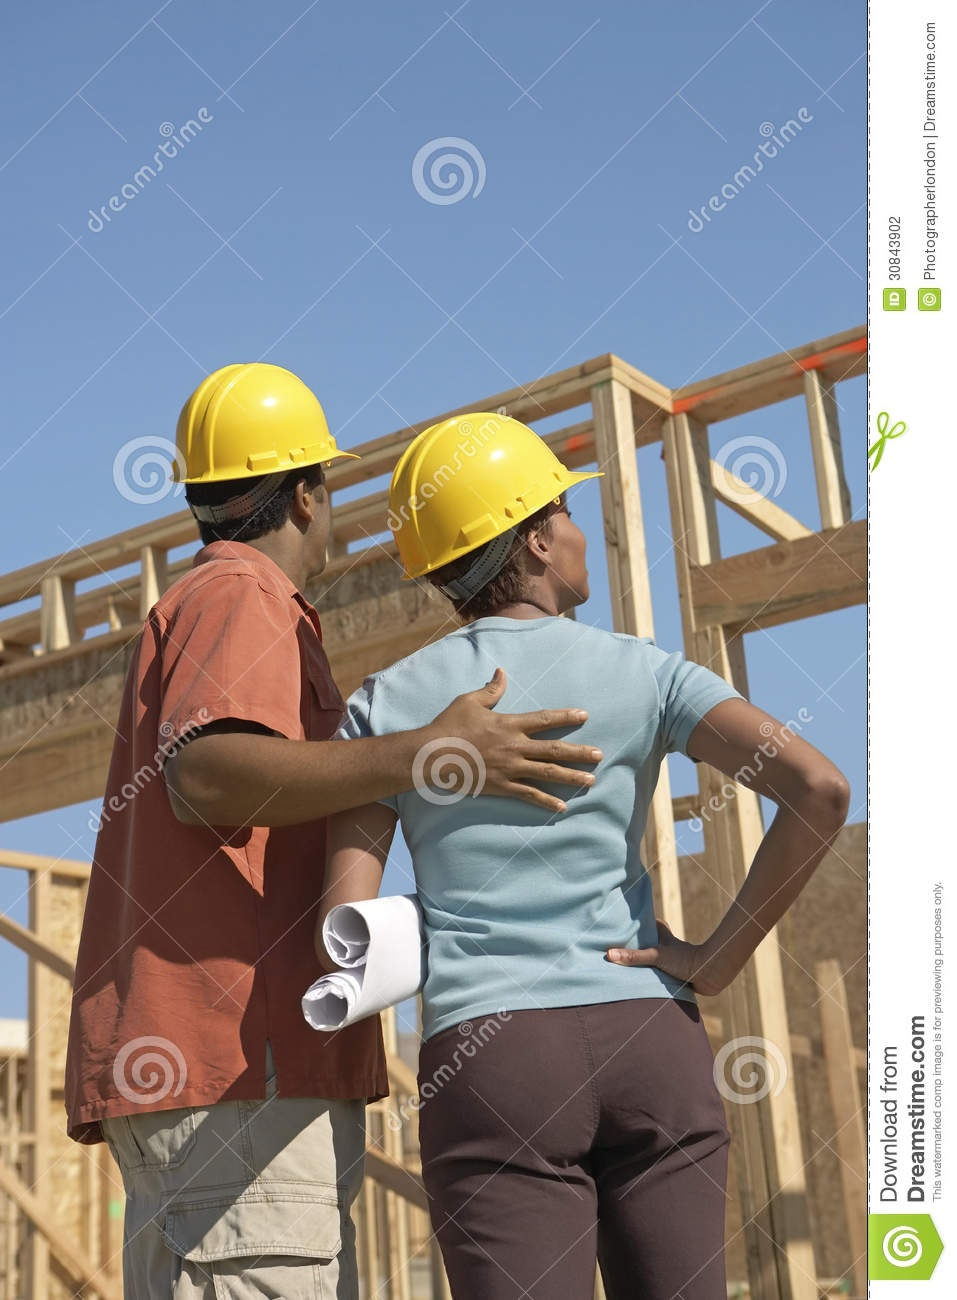yellow: (388, 414, 605, 629), (169, 361, 345, 583)
